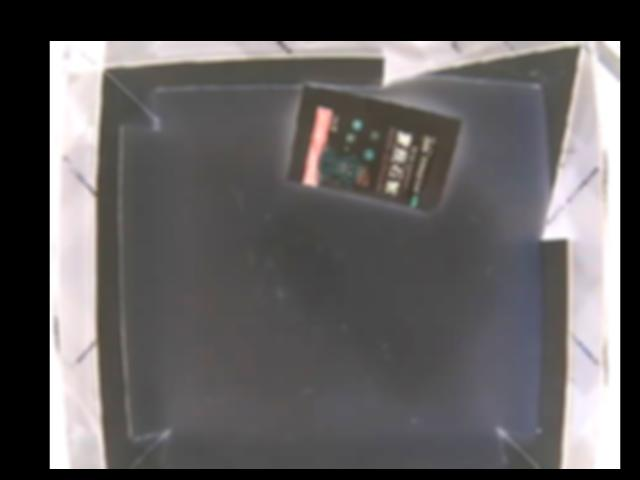Medicine: (282, 82, 464, 215)
